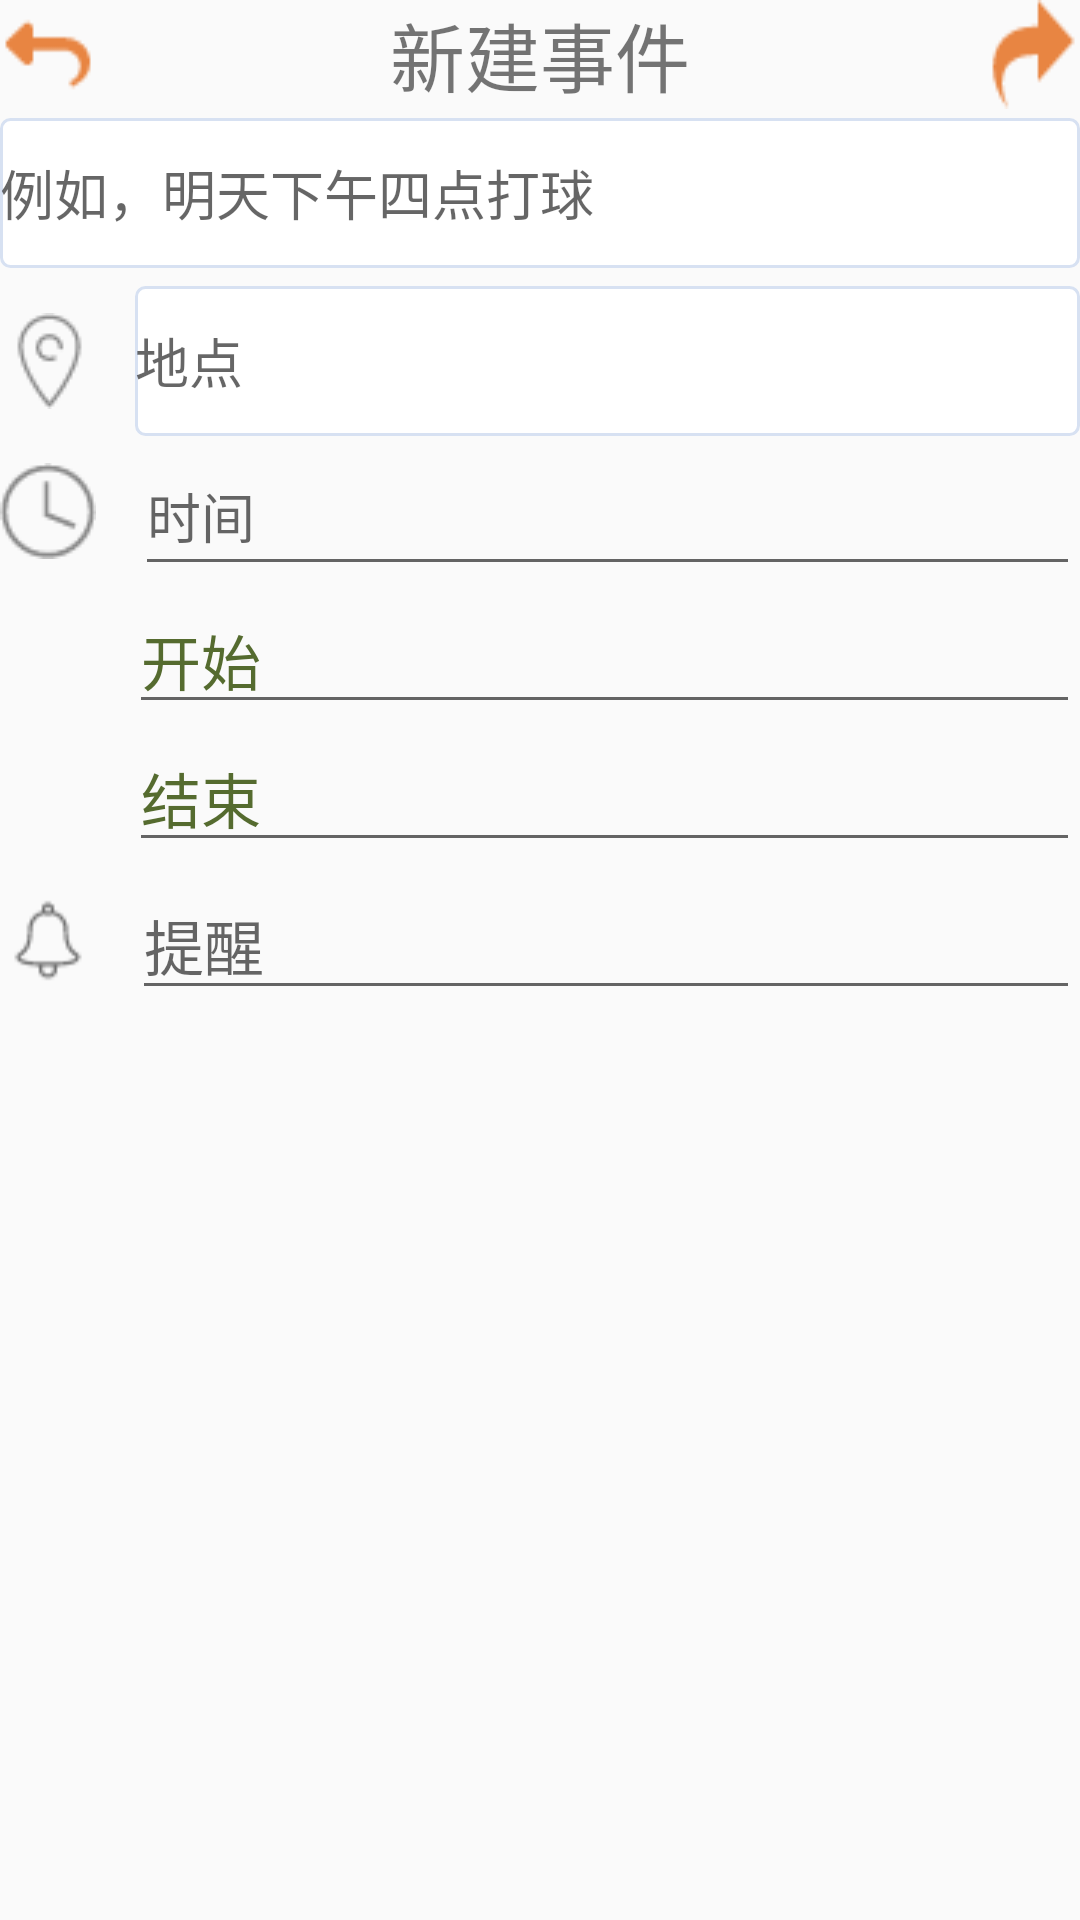

Icons on this 1080 x 1920 Android screen, each with the point to tap as (x=x, y=y):
event cancle: (x=48, y=54)
event clock: (x=48, y=511)
event confirm: (x=1033, y=53)
event location: (x=49, y=361)
event remind: (x=48, y=940)
